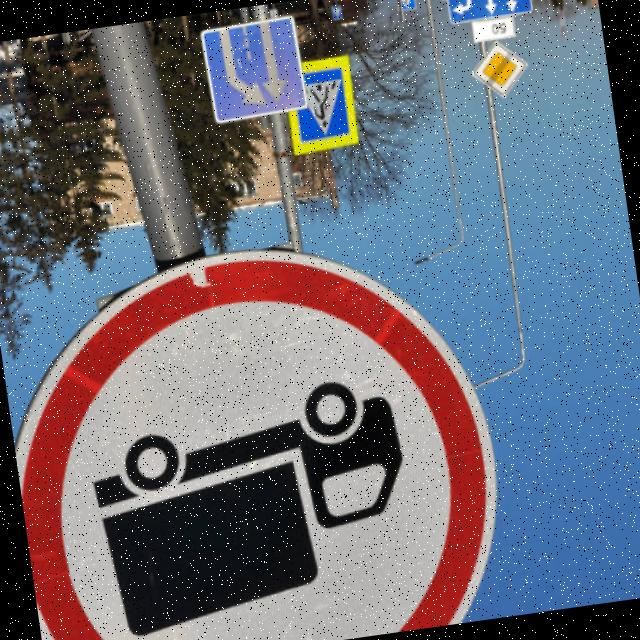do_not_enter: (0, 209, 529, 640)
